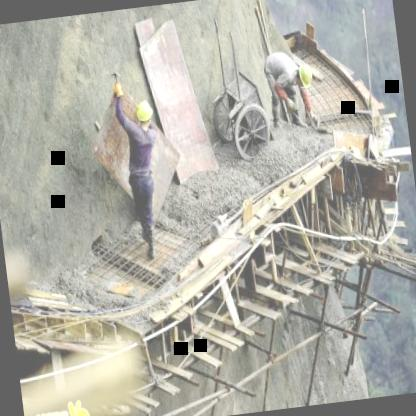helmet: (132, 97, 156, 133), (291, 62, 317, 93)
